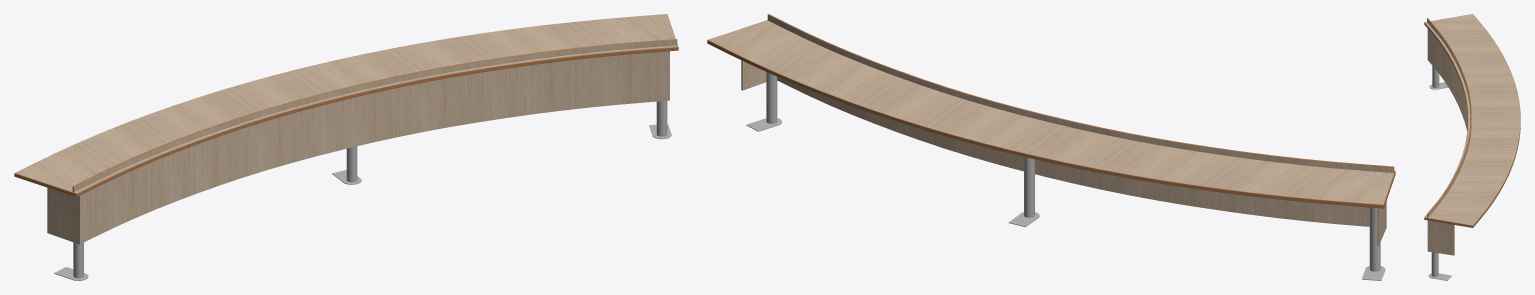
File: CenterTableC.fbx
3 renders of one model, left to right at view 1: azimuth 30°, elevation 25°; view 2: azimuth 150°, elevation 25°; view 3: azimuth 270°, elevation 25°, orthographic. The views are drawn at different scales.
Visible parts, largest first — view 1: CenterTableC; view 2: CenterTableC; view 3: CenterTableC.
Boxes of the visible parts, left/top/right/bottom form: CenterTableC: left=14, top=14, right=678, bottom=280; CenterTableC: left=707, top=14, right=1395, bottom=280; CenterTableC: left=1424, top=14, right=1520, bottom=280.
Bounding box in the file's own units: 600 × 85.94 × 116.
Materials: 3 (1 with a texture image).
